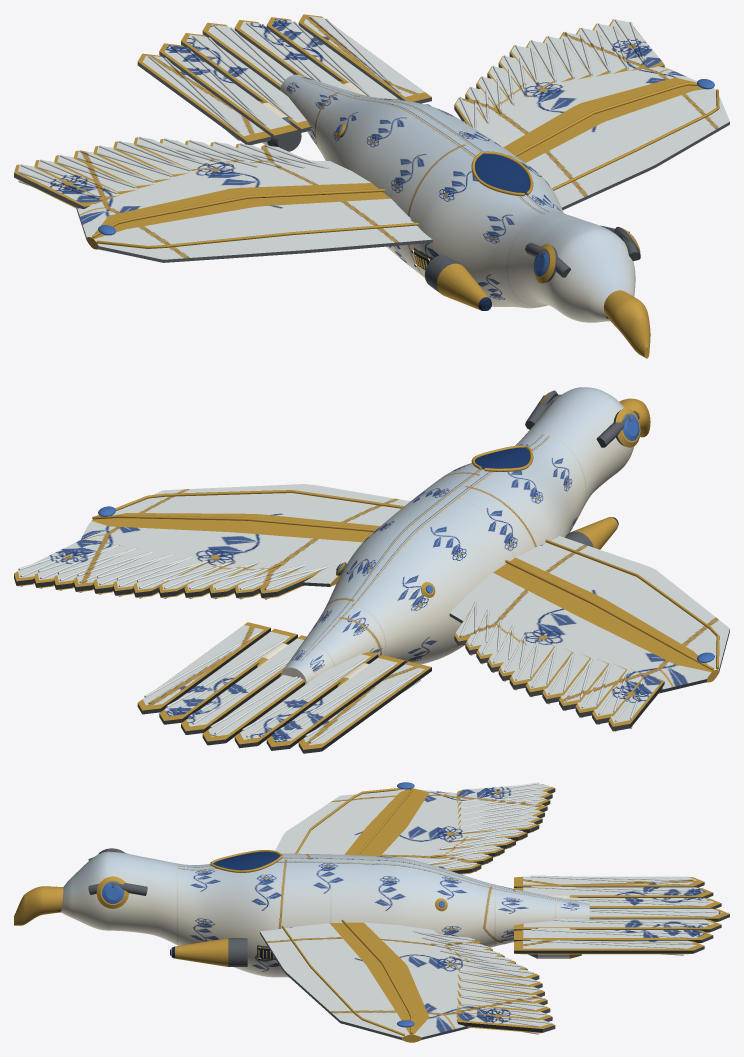
3 renders of one model, top to bottom at view 1: azimuth 30°, elevation 25°; view 2: azimuth 150°, elevation 25°; view 3: azimuth 270°, elevation 25°, orthographic. The views are drawn at different scales.
Visible parts, largest first — view 1: shrike_hull; view 2: shrike_hull; view 3: shrike_hull.
Boxes of the visible parts, x1=… form: shrike_hull: x1=14, y1=14, x2=729, y2=358; shrike_hull: x1=14, y1=387, x2=729, y2=753; shrike_hull: x1=14, y1=782, x2=729, y2=1042.
Bounding box in the file's own units: 13.49 × 2.96 × 16.5.
1 material, 1 textured.
